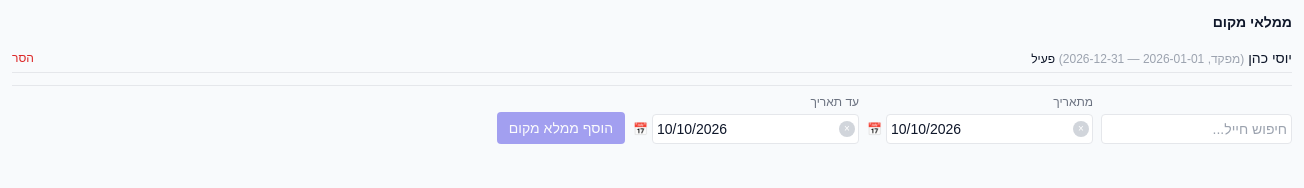
Test: shows the specific backend error reason instead of a generic message
Check: the text "יוסי כהן" is shown, box [1248,50,1292,66]
Step 1. Type "יוסי" into the field with placeholder "חיפוש חייל..." → (1196, 129), box [1101,114,1292,144]
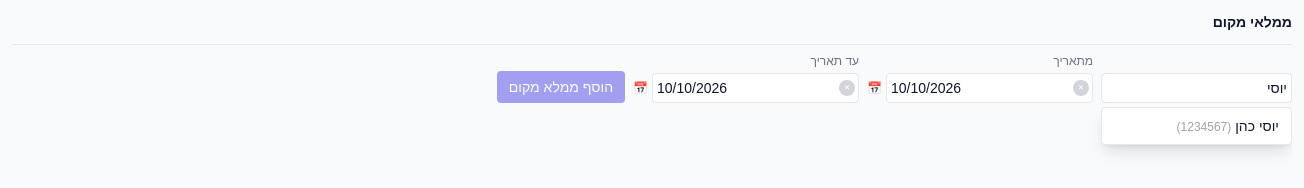
Step 2. Click the list item "(1234567)" → (1228, 126), box [1176,118,1279,134]
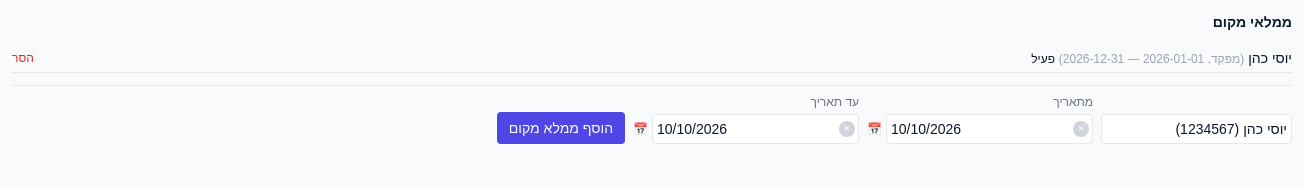
Check: the button "הוסף ממלא מקום" is enabled
Step 3. Click the button "הוסף ממלא מקום" → (561, 128), box [497,112,625,144]
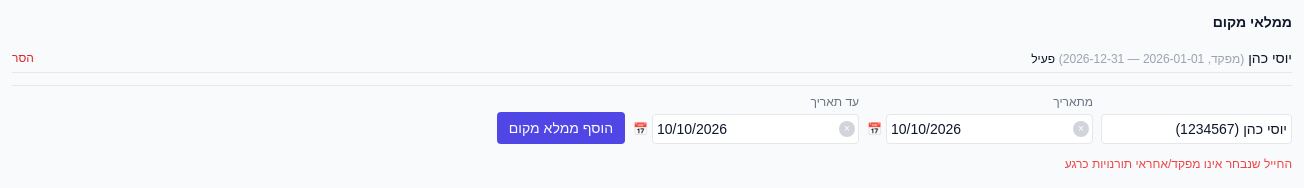
Check: the text "החייל שנבחר אינו מפקד/אחראי תורנויות כרגע" is shown, box [1065,157,1292,171]
